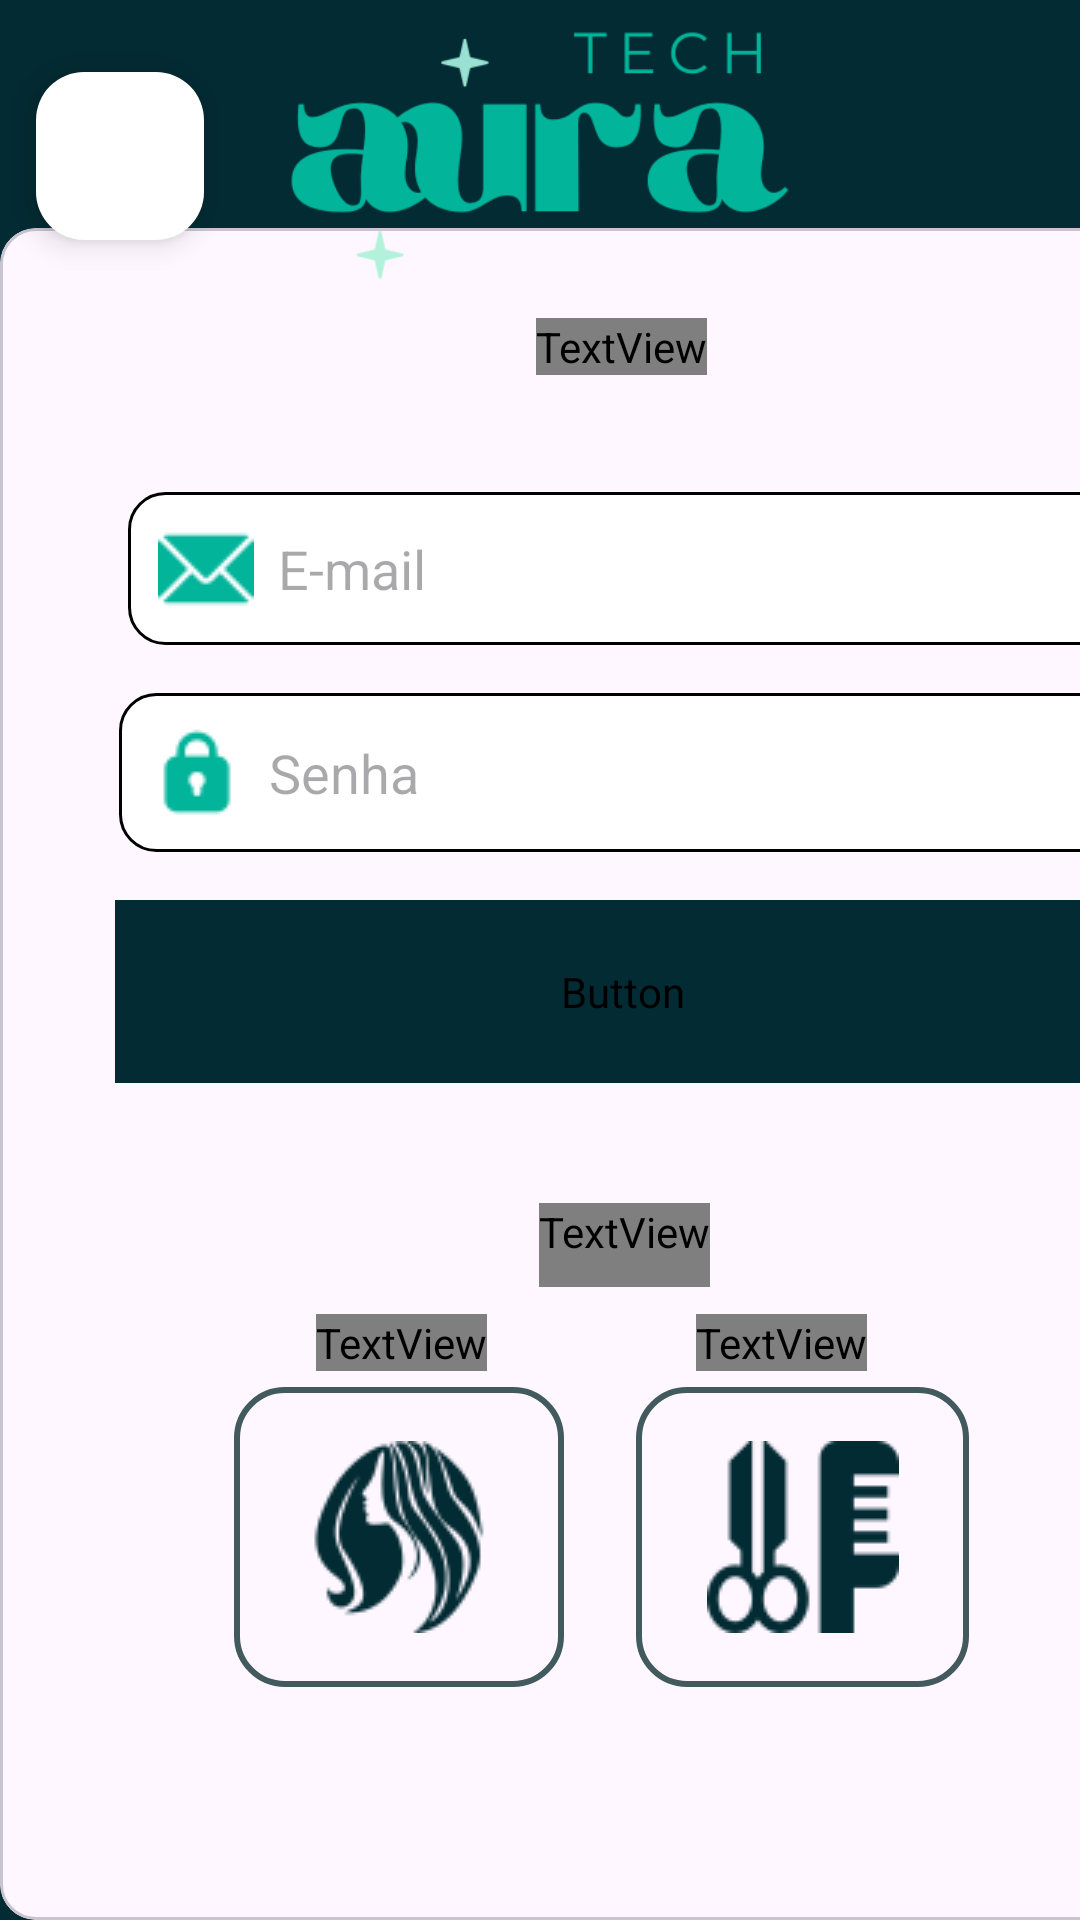

Locate icon controls on the screen. Image size 1080 × 1920, boxes as (x1, y1, x2, y2).
Cadastrar como Cliente: (234, 1387, 564, 1687)
Cadastrar como Salão: (636, 1387, 969, 1687)
